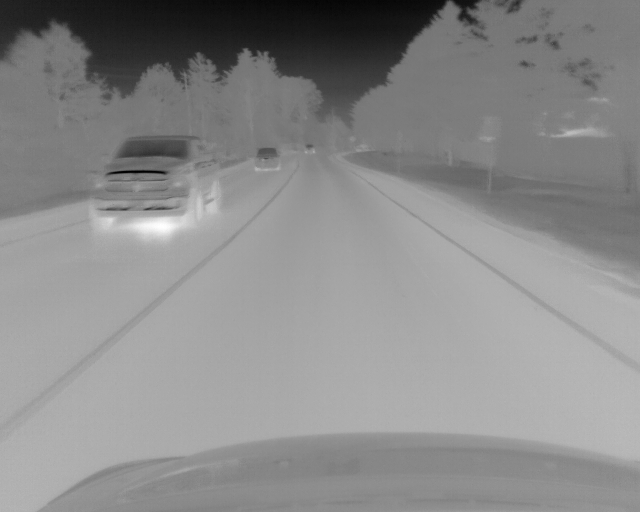car: (86, 135, 223, 233), (251, 146, 282, 174), (303, 143, 316, 155)
